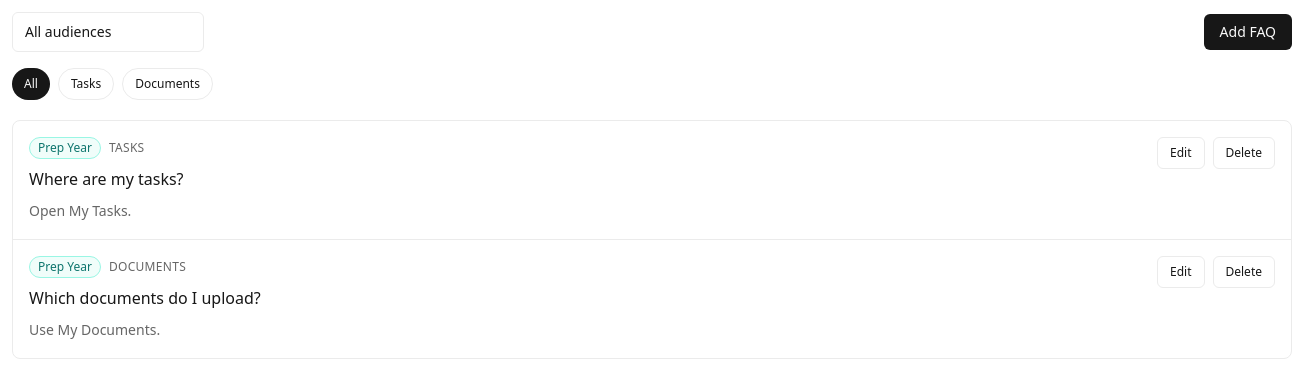
Test: FaqManagement › filters the list with category bubbles
Expected: the text "Which documents do I upload?" is shown, [29,287,261,309]
Expected: the text "Where are my tasks?" is shown, [29,168,184,190]
Click the button "Tasks": (86,84) [58,68,114,100]
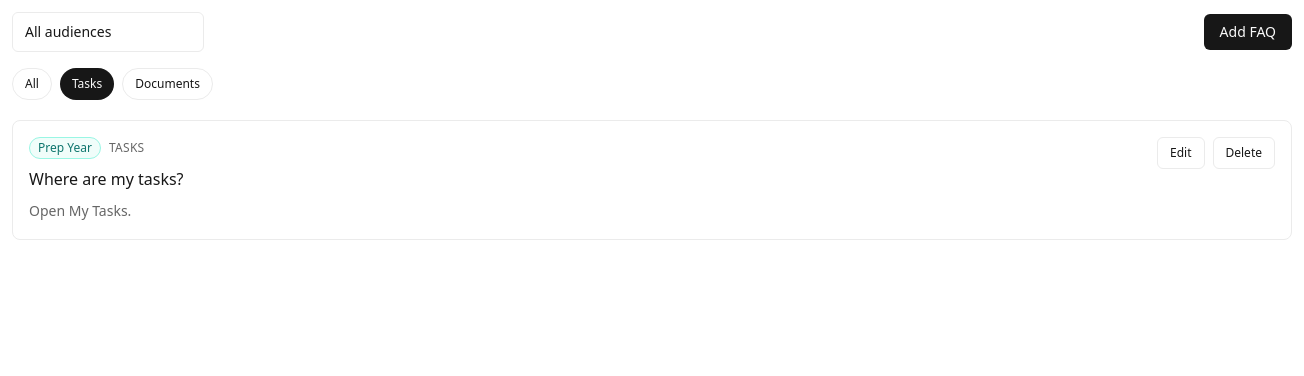
Expected: the text "Where are my tasks?" is shown, [29,168,184,190]
Expected: the text "Which documents do I upload?" is gone
